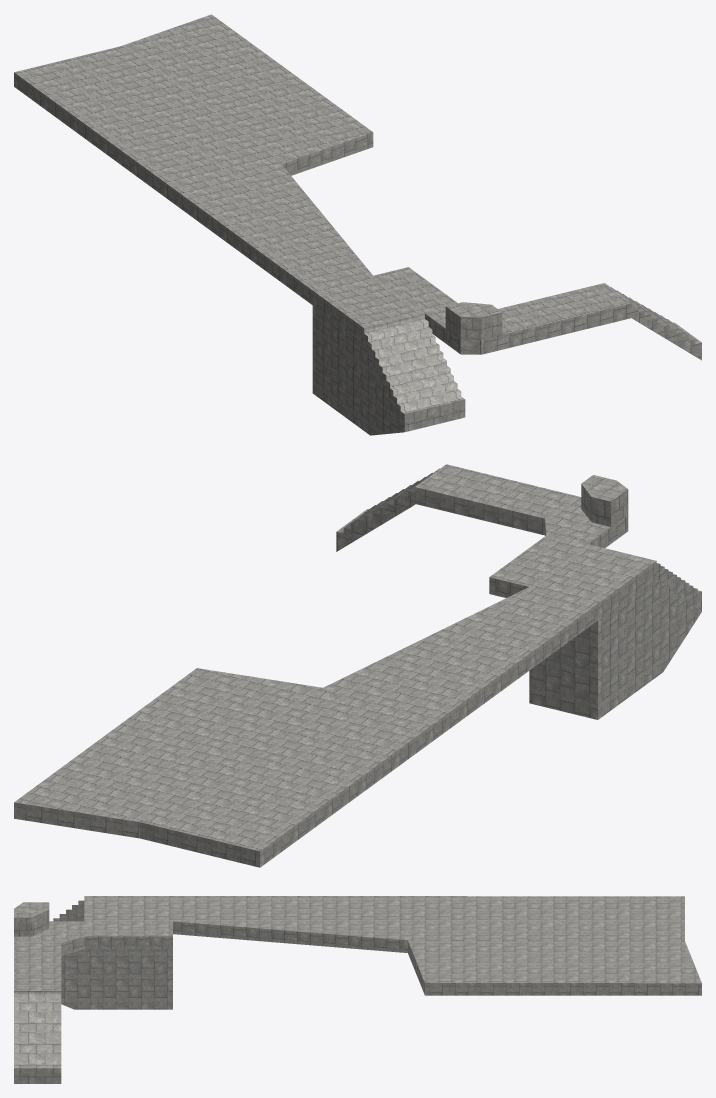
File: EastStair_004.fbx
3 views of the same model, one above another, from view 1: azimuth 30°, elevation 25°; view 2: azimuth 150°, elevation 25°; view 3: azimuth 270°, elevation 25° (orthographic). The views are drawn at different scales.
Visible parts, largest first — view 1: WestStair_main, pCube3; view 2: WestStair_main, pCube3; view 3: WestStair_main, pCube3.
Boxes of the visible parts, x1=… form: WestStair_main: x1=14, y1=14, x2=701, y2=435; pCube3: x1=445, y1=302, x2=502, y2=339; WestStair_main: x1=14, y1=464, x2=701, y2=867; pCube3: x1=581, y1=475, x2=628, y2=526; WestStair_main: x1=14, y1=896, x2=701, y2=1083; pCube3: x1=14, y1=902, x2=49, y2=936.
Bounding box in the file's own units: 4175 × 1684 × 9791.
